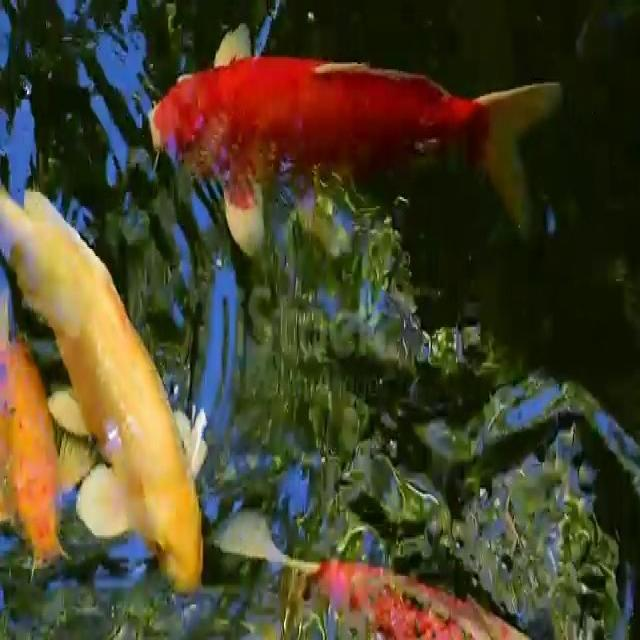fish: (142, 0, 563, 261), (0, 158, 207, 592), (0, 325, 77, 575)
